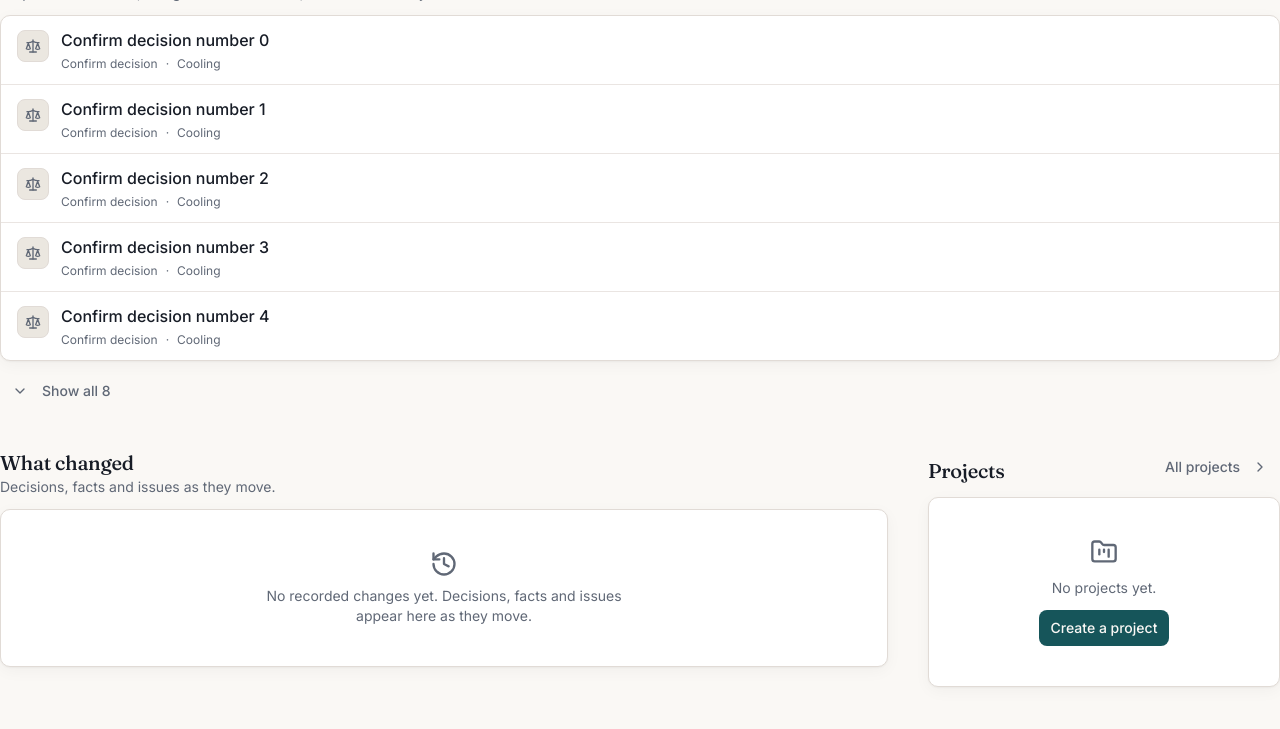
Test: AssistantHomePage › shows five actions and expands to the rest
(page scrolled)
Expected: the link "Confirm decision number 0" is shown, [61,30,269,50]
Expected: the link "Confirm decision number 4" is shown, [61,306,270,326]
Click the button "Show all 8" at x=61, y=391, box [0,373,123,409]
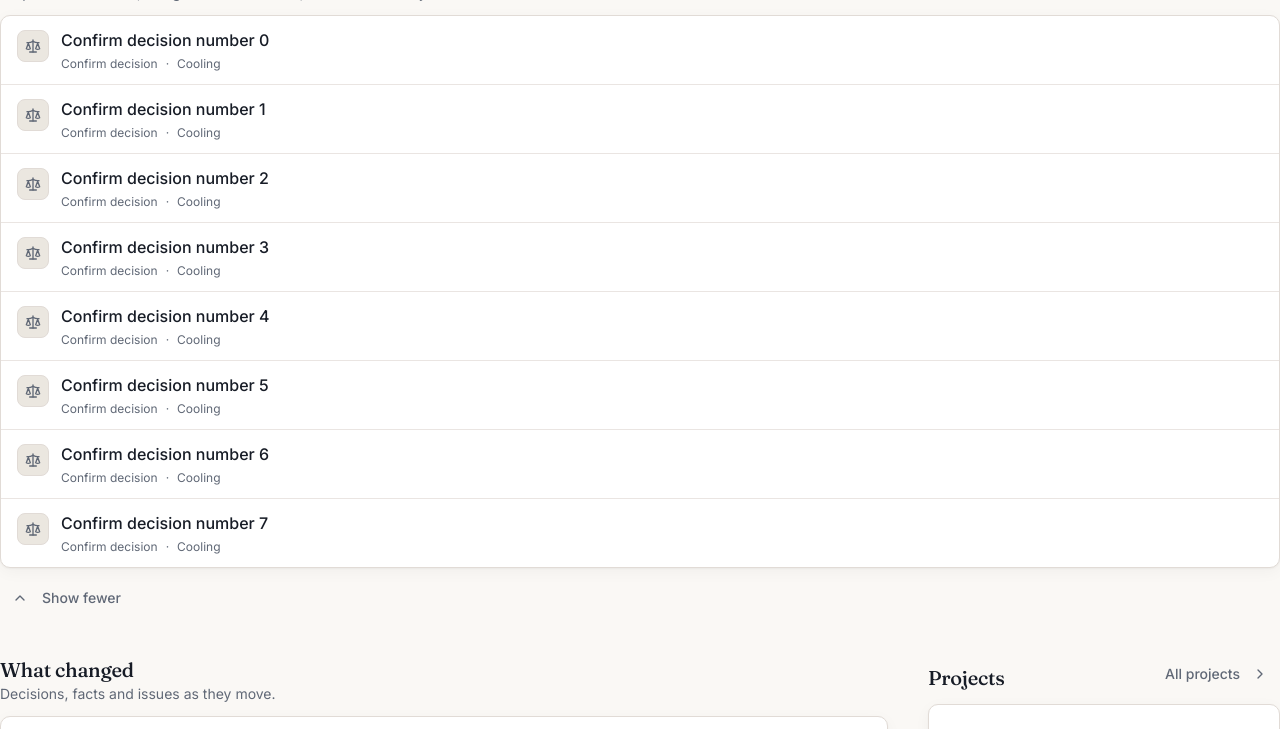
Result: the link "Confirm decision number 7" is shown at [61,513,268,533]
Result: the button "Show fewer" is expanded
Click the button "Show fewer" at x=66, y=598, box [0,580,133,616]
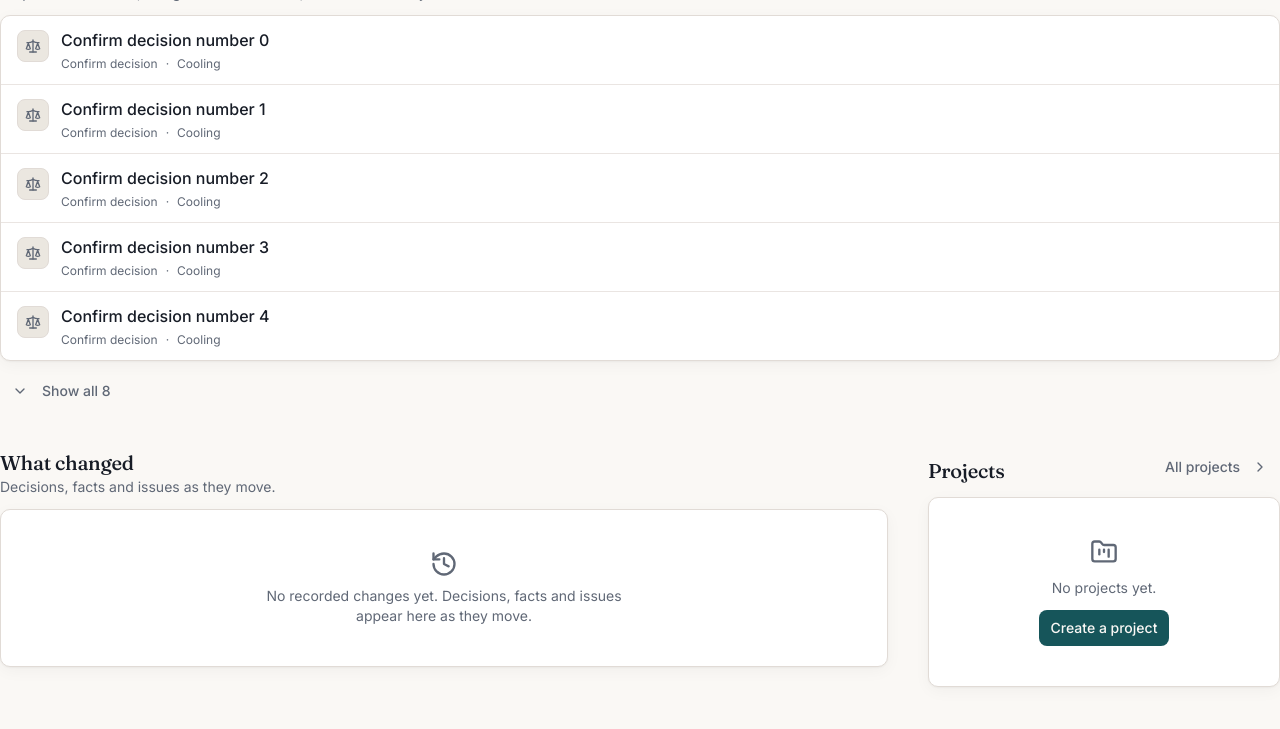
Result: the link "Confirm decision number 7" is gone
